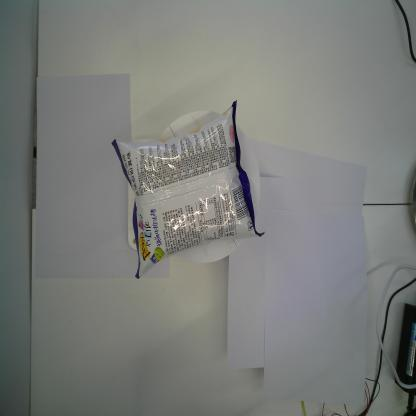Puffed Food: (108, 98, 266, 280)
